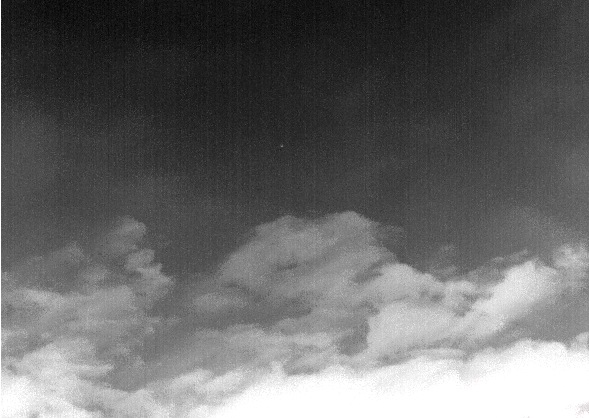dim target: (279, 143, 285, 149)
